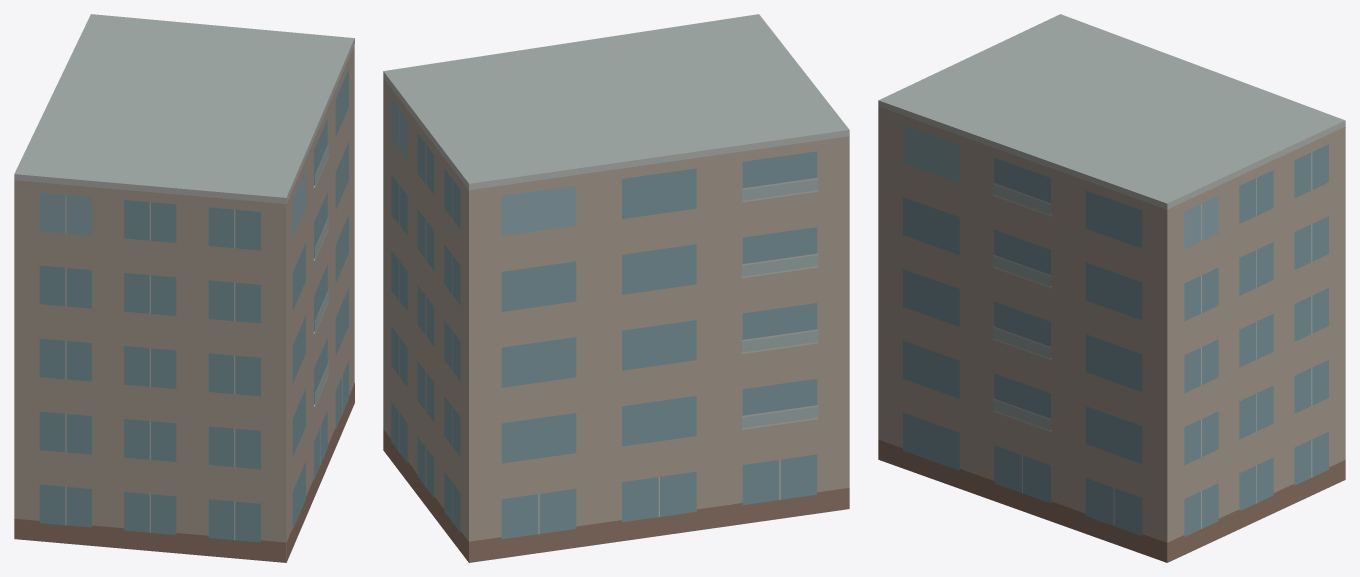
File: survey-upis-32705482.glb
3 views of the same model, side by side, from view 1: azimuth 30°, elevation 25°; view 2: azimuth 150°, elevation 25°; view 3: azimuth 270°, elevation 25° (orthographic). The views are drawn at different scales.
Parts seen in each view (by area): view 1: survey-upis-32705482.tmp; view 2: survey-upis-32705482.tmp; view 3: survey-upis-32705482.tmp.
Part boxes in pixels (bbox=[...]): survey-upis-32705482.tmp: bbox=[14, 14, 354, 562]; survey-upis-32705482.tmp: bbox=[383, 14, 849, 562]; survey-upis-32705482.tmp: bbox=[878, 14, 1345, 562].
Size of the model in its own units: 16.42 by 14.5 by 17.1.
